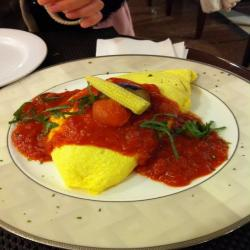omelette: (49, 64, 201, 199)
